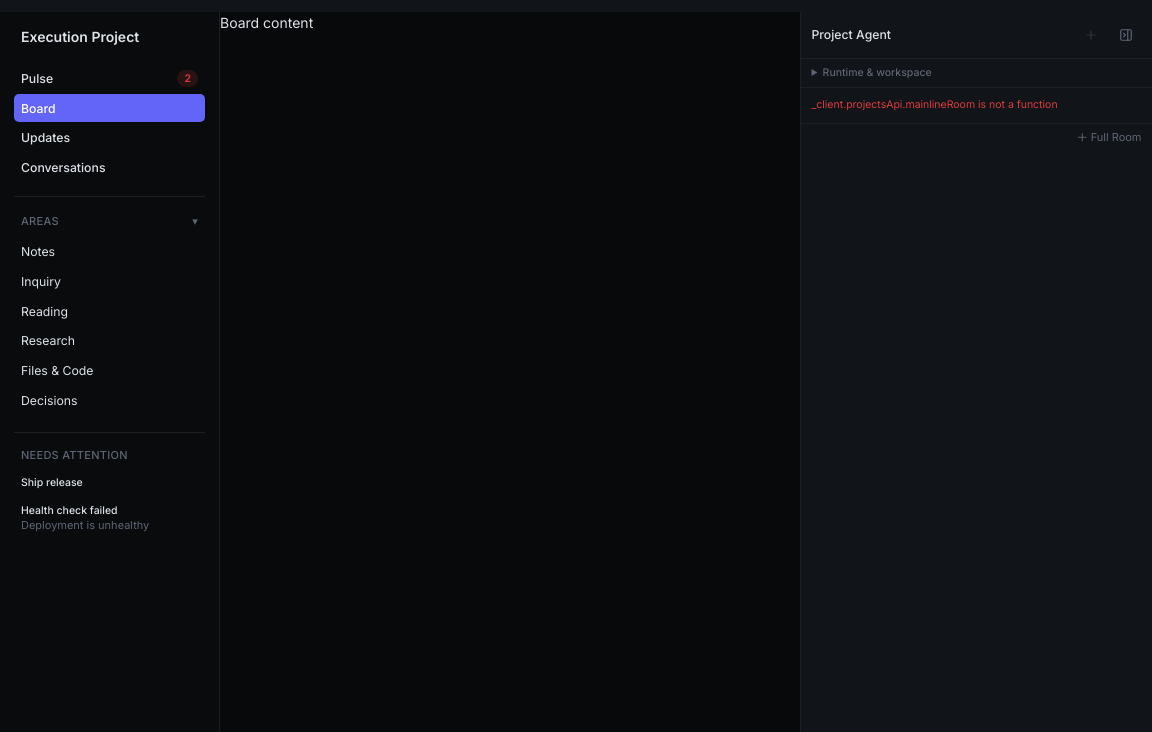
it: Project execution Areas › keeps every Project domain reachable through persistent grouped navigation
Expected: the text "Execution Project" is shown, 21,26 -> 139,47
Expected: the link "Pulse 2" is shown, 14,64 -> 205,92
Click the link "Inquiry": (41, 281) 21,274 -> 61,289
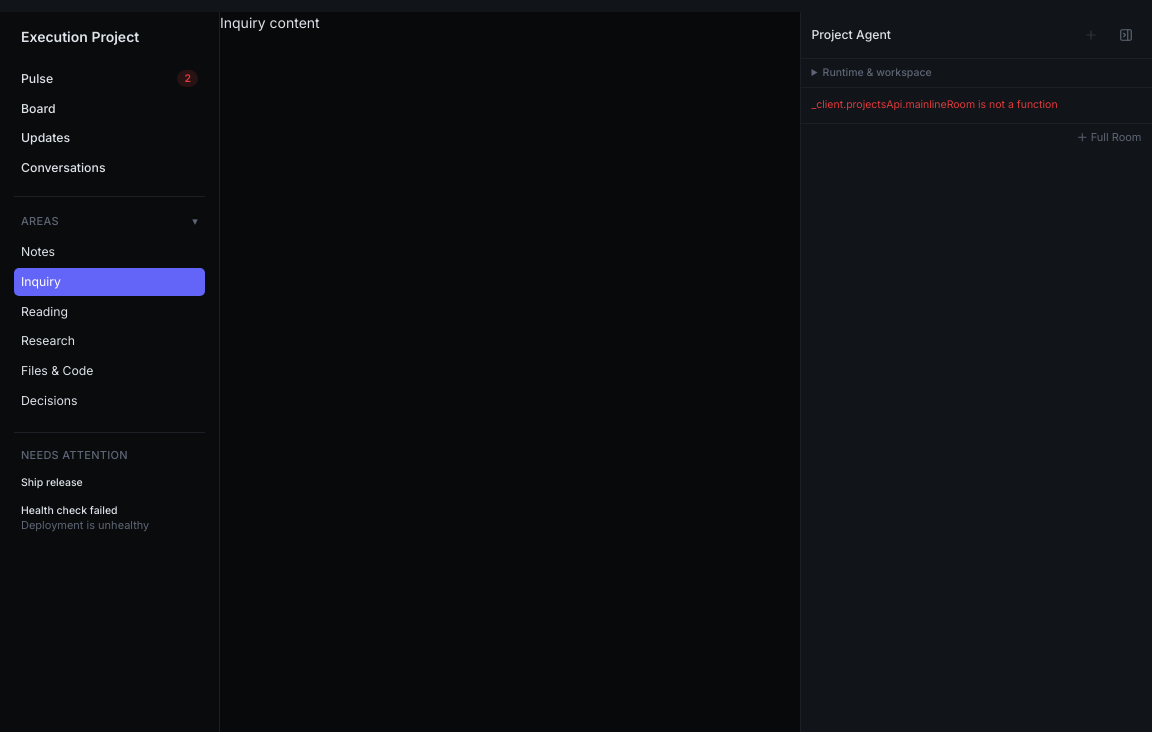
Expected: the text "Needs attention" is shown, 21,448 -> 128,462
Expected: the text "Inquiry content" is shown, 220,14 -> 320,31
